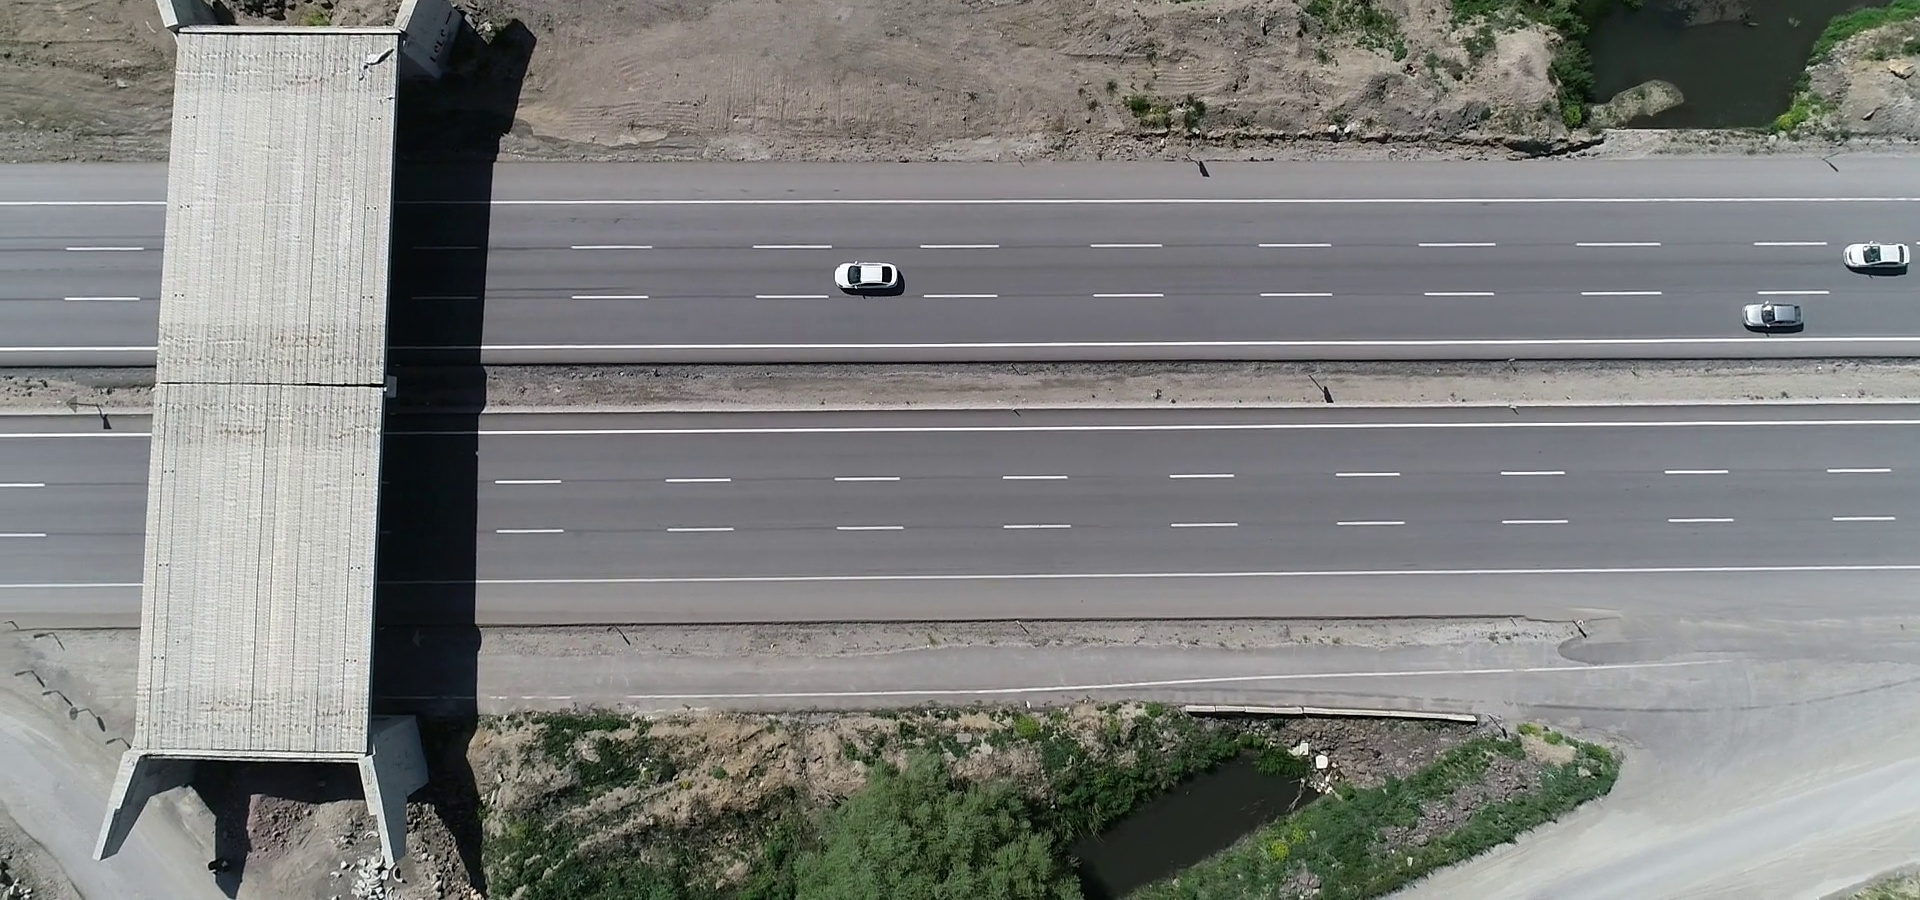araba: (1842, 238, 1918, 274), (830, 260, 907, 295), (1741, 298, 1810, 331)
